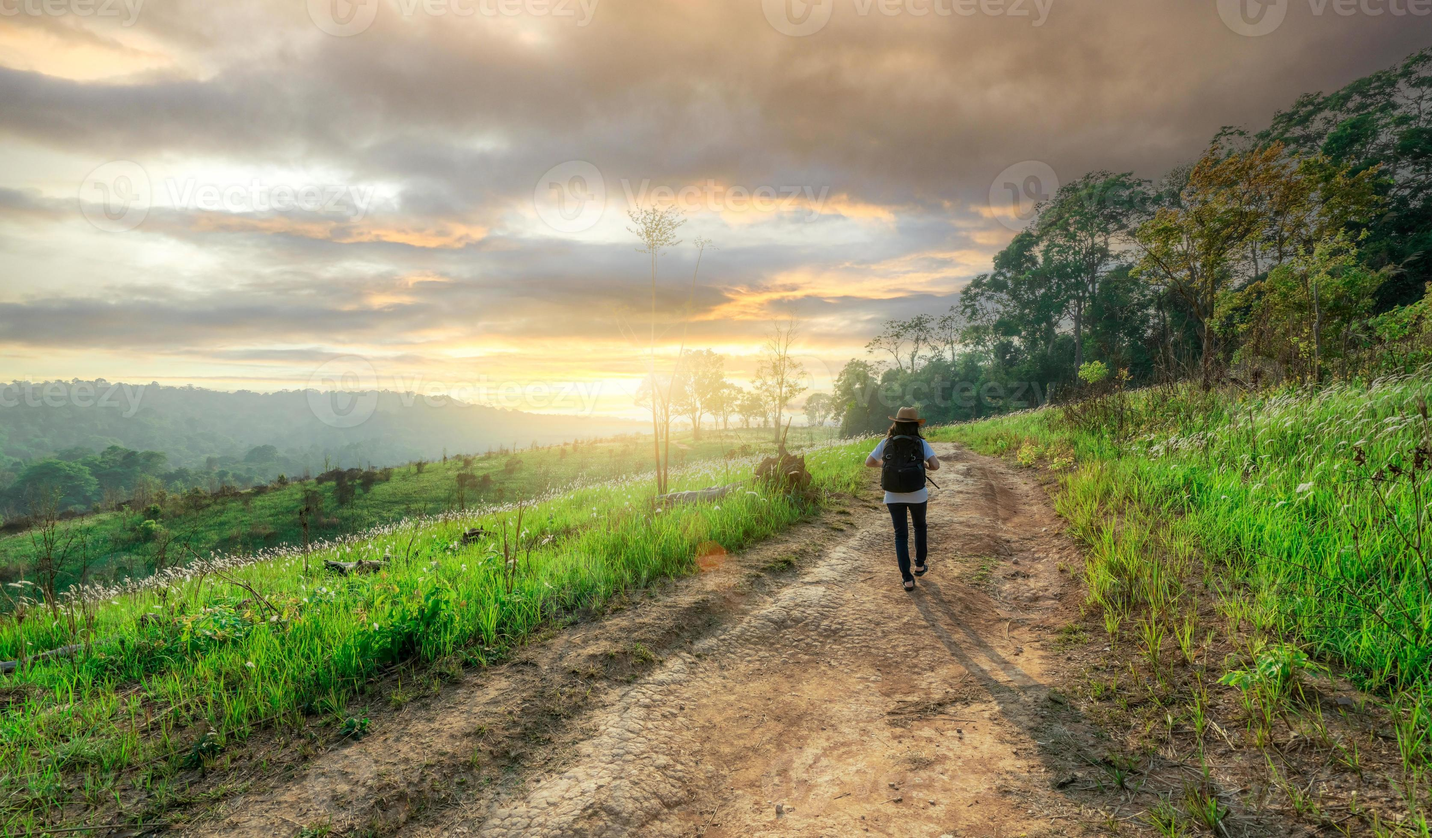Person: (864, 400, 947, 593)
